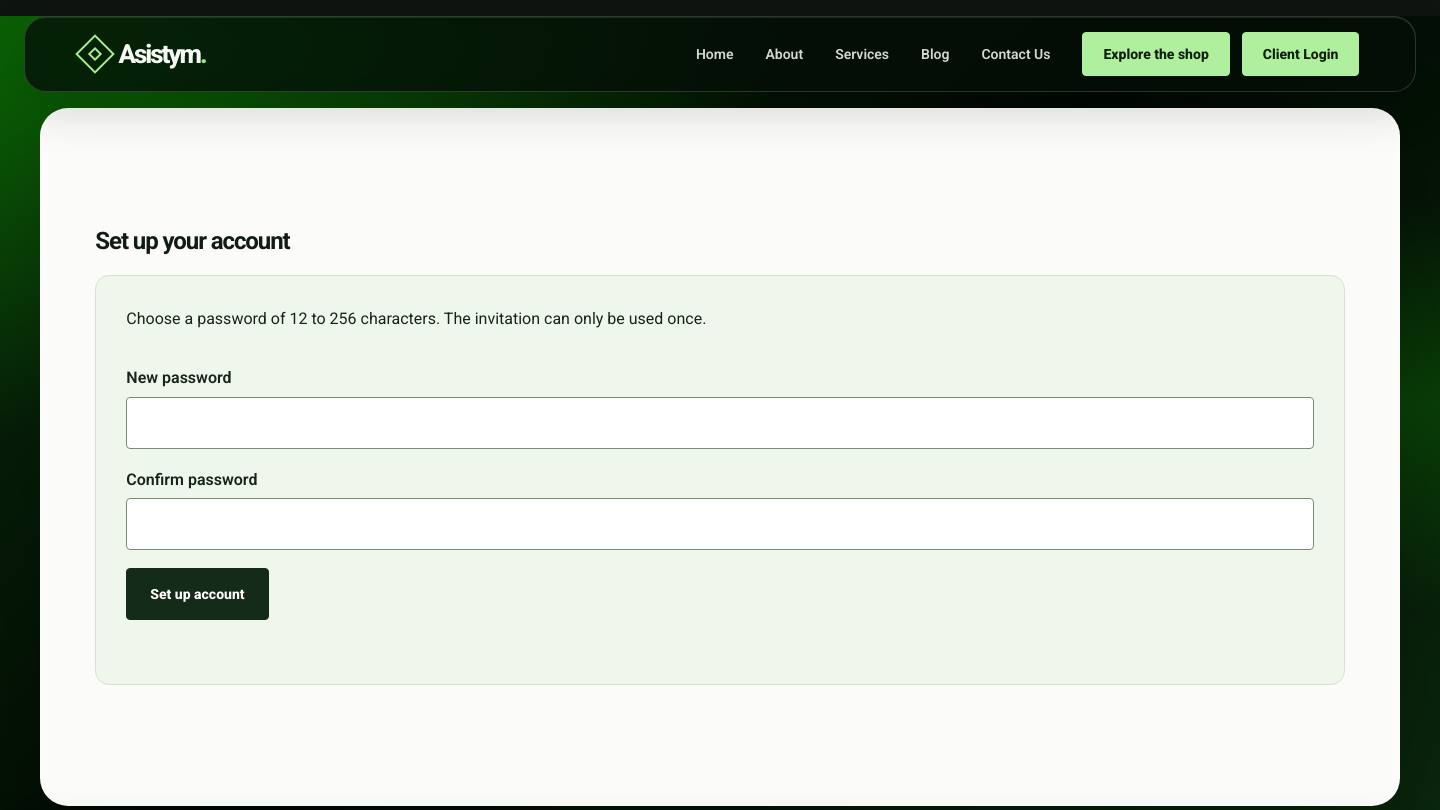
Test case: an invited client can choose a password and the credential is removed from the address bar
The width and height of the screenshot is (1440, 810).
In the password field labelled "New password": (720, 423) [126,397,1314,449], type "valid password example"
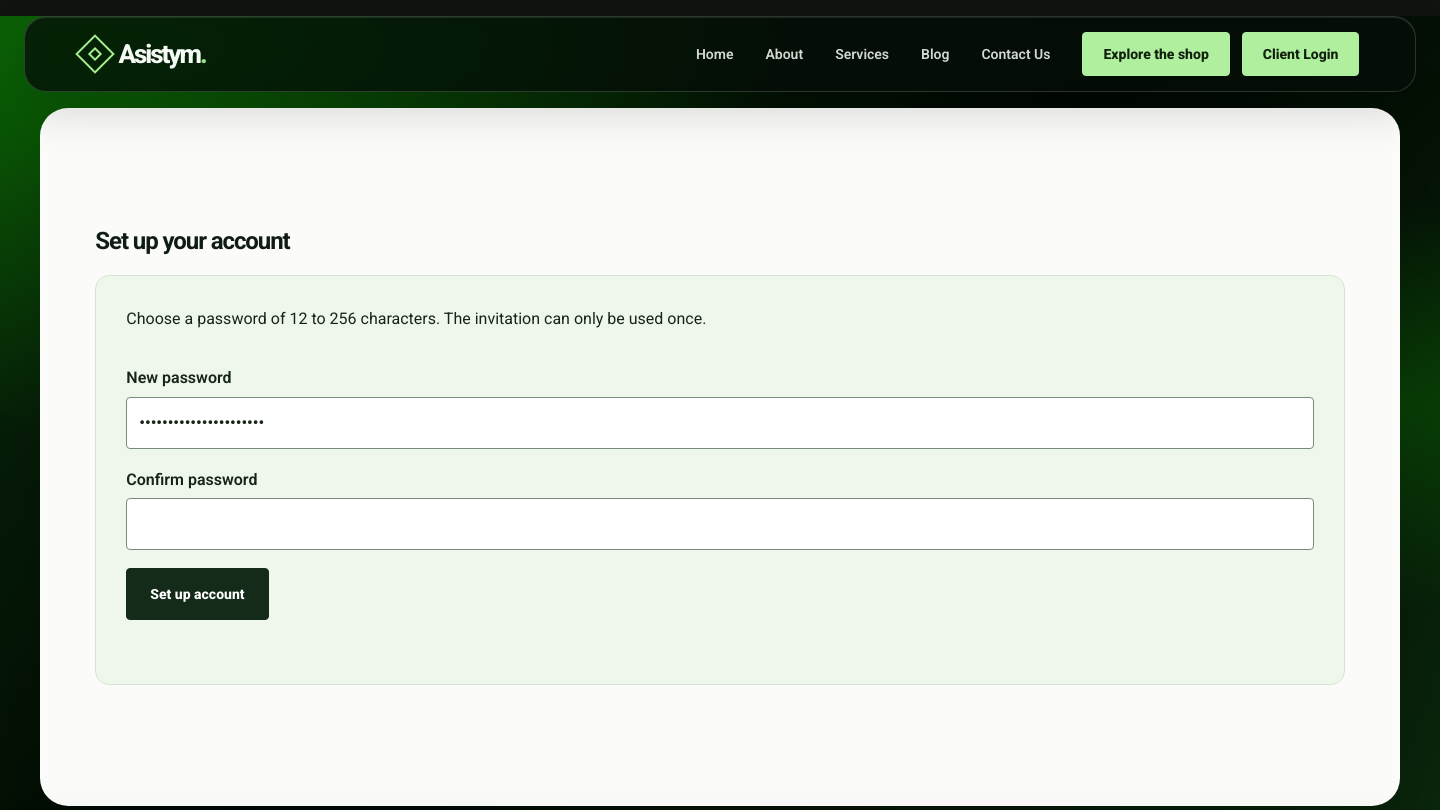
In the password field labelled "Confirm password": (720, 524) [126,498,1314,550], type "valid password example"
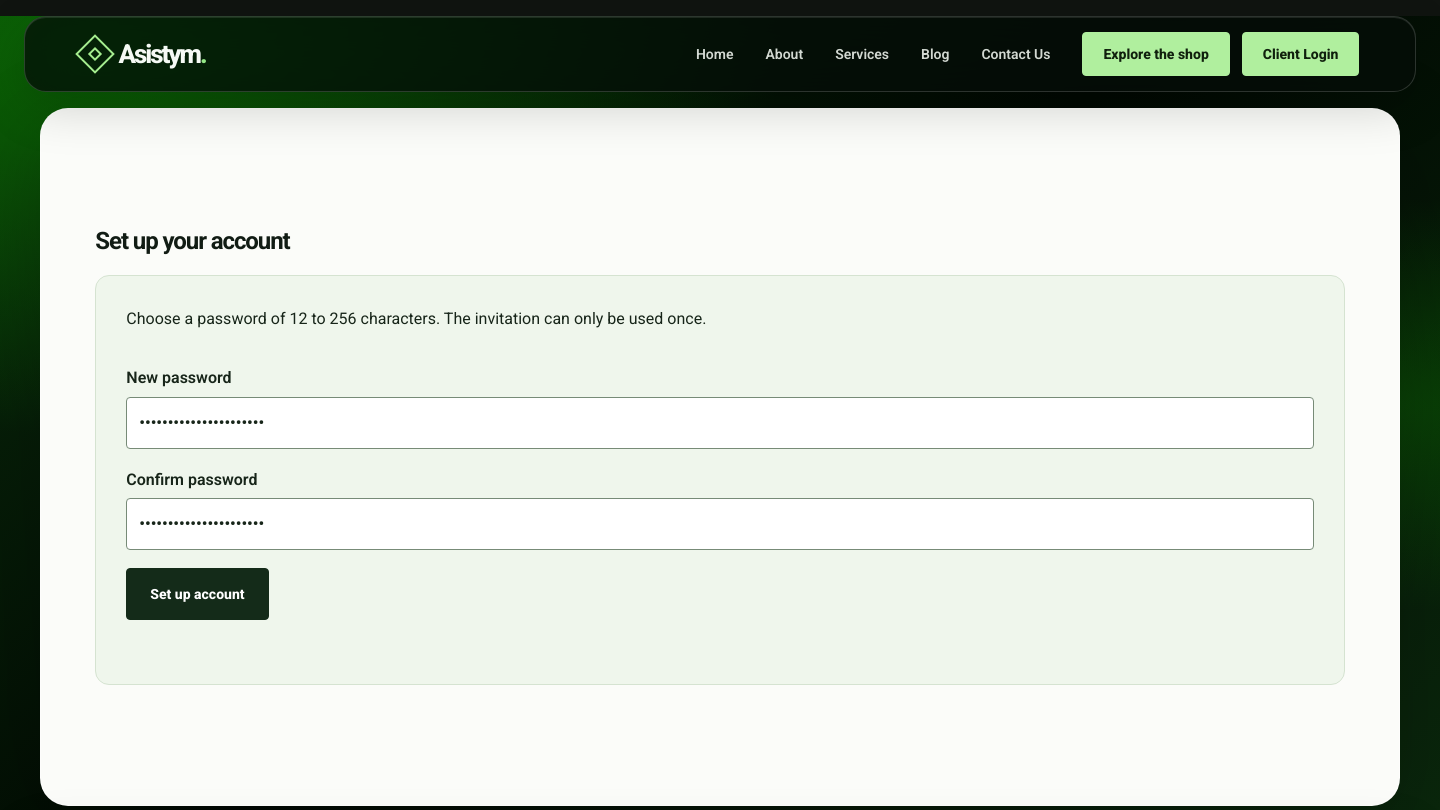
Click the button "Set up account": click(197, 594) [126,568,269,620]
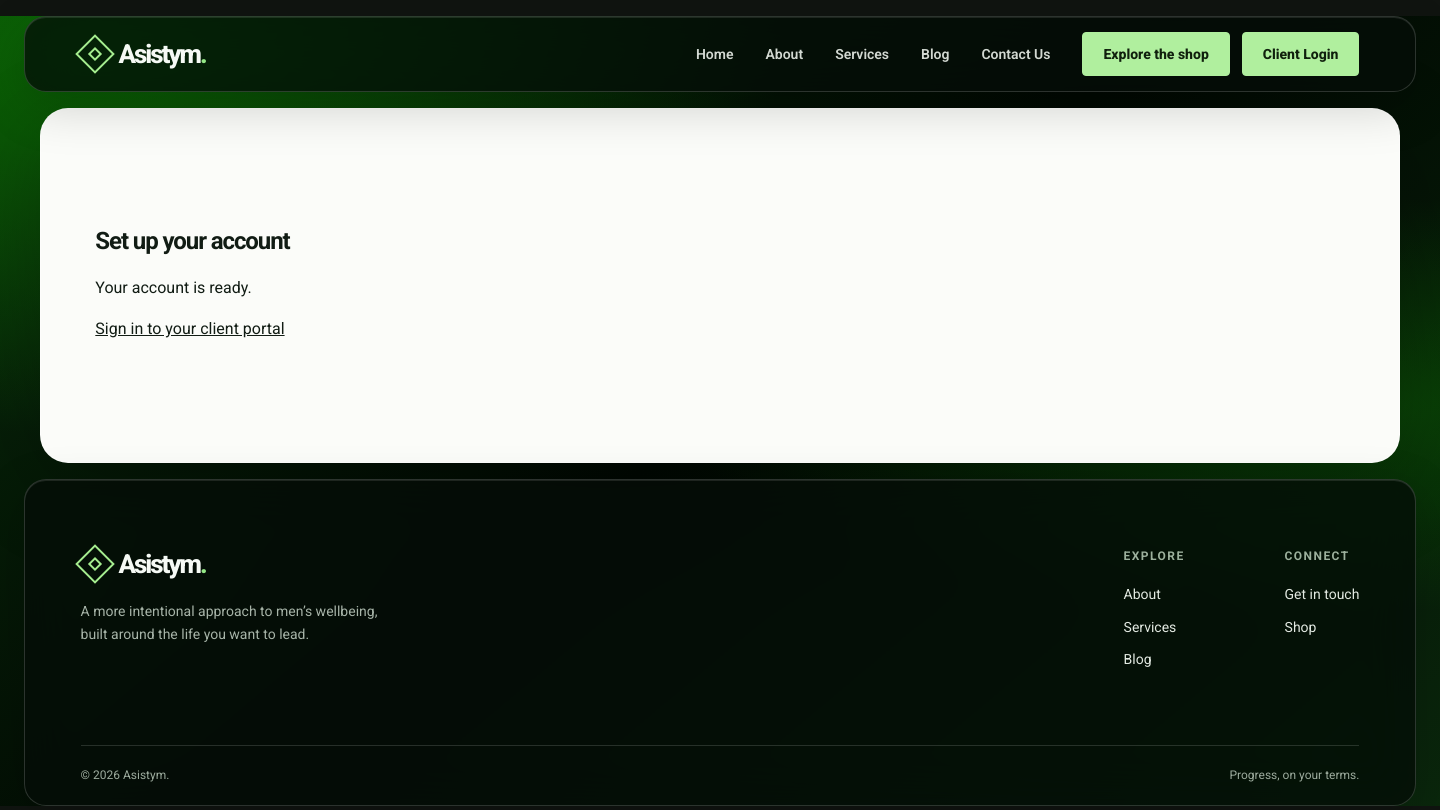
Expected: the text "Your account is ready." is shown, [95,278,252,297]
